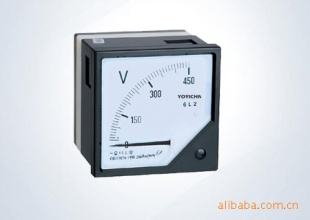pointer: (102, 53, 212, 171)
